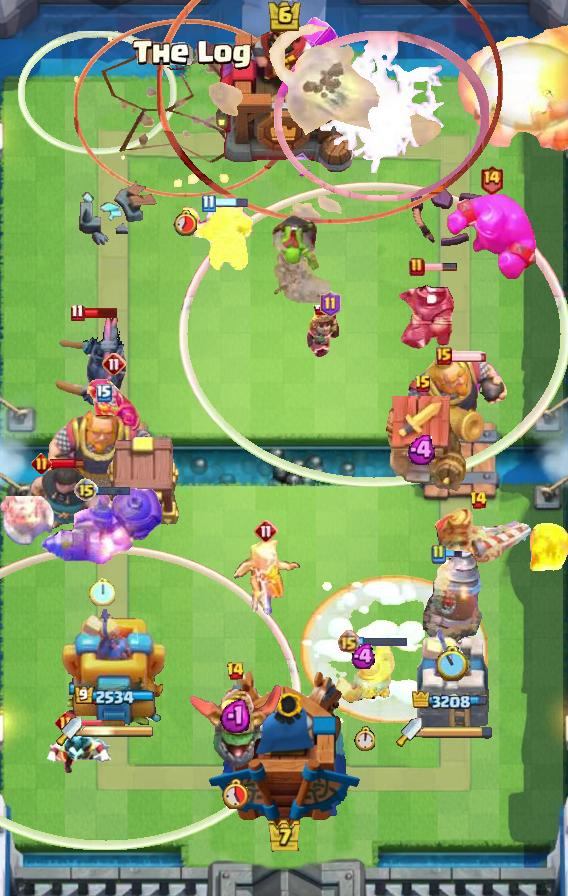bar: (62, 601, 166, 731), (414, 623, 492, 731)
bar-level: (270, 212, 320, 272)
barbarian-evolution: (274, 30, 489, 202)
bomb: (102, 433, 182, 527)
bomber-evolution: (304, 305, 356, 361)
clone: (445, 192, 537, 282)
electro-spirit: (220, 697, 250, 733), (407, 435, 439, 465), (351, 644, 377, 669)
elixir: (437, 646, 469, 681), (222, 779, 248, 810), (89, 577, 115, 606), (173, 209, 199, 236), (353, 726, 375, 751)
emote: (356, 635, 407, 647), (73, 718, 127, 727), (81, 305, 118, 318), (450, 350, 488, 362), (50, 457, 85, 470), (213, 197, 249, 209), (96, 484, 131, 496), (422, 262, 458, 272), (445, 549, 464, 560)
firecracker: (333, 640, 395, 704)
firecracker-evolution: (87, 378, 141, 441)
fisherman: (268, 252, 330, 304)
freeze: (183, 201, 255, 271)
giant-skeleton: (399, 352, 513, 456), (46, 405, 162, 505)
golemite: (52, 314, 126, 408)
guard: (74, 19, 298, 198)
king-tower: (211, 7, 357, 181), (207, 669, 361, 826)
king-tower-bar: (82, 724, 154, 738), (422, 725, 494, 739)
lumberjack: (42, 721, 116, 779)
magic-archer: (423, 551, 483, 643)
night-witch: (187, 682, 283, 770)
phoenix-big: (300, 575, 488, 723)
poison: (224, 534, 308, 618)
ram-rider: (423, 506, 533, 582)
royal-ghost: (157, 0, 503, 224)
royal-giant: (0, 496, 56, 546)
royal-guardian: (393, 268, 463, 352)
royal-hog: (11, 463, 105, 533)
selected: (412, 691, 494, 713), (73, 686, 154, 707)
sparky: (380, 395, 466, 493)
text: (479, 165, 504, 196), (102, 352, 126, 376), (74, 478, 98, 502), (254, 519, 278, 543), (336, 630, 359, 654), (320, 291, 341, 317), (32, 453, 53, 475), (55, 712, 76, 733), (226, 661, 246, 681), (468, 490, 487, 510), (414, 374, 432, 394), (409, 257, 425, 277), (430, 544, 446, 564), (436, 347, 452, 365), (96, 384, 112, 402), (201, 195, 215, 214), (71, 302, 85, 321)
valkyrie: (452, 23, 568, 155), (526, 517, 568, 575)
wizard: (40, 487, 164, 565)
